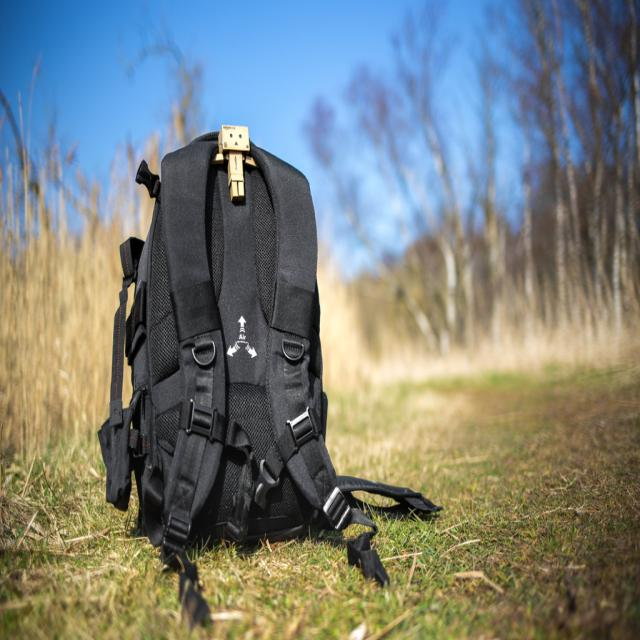backpack: (120, 127, 362, 548)
